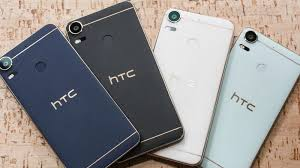htc: (1, 19, 140, 168), (59, 1, 180, 167), (140, 1, 234, 164), (196, 27, 300, 168)
